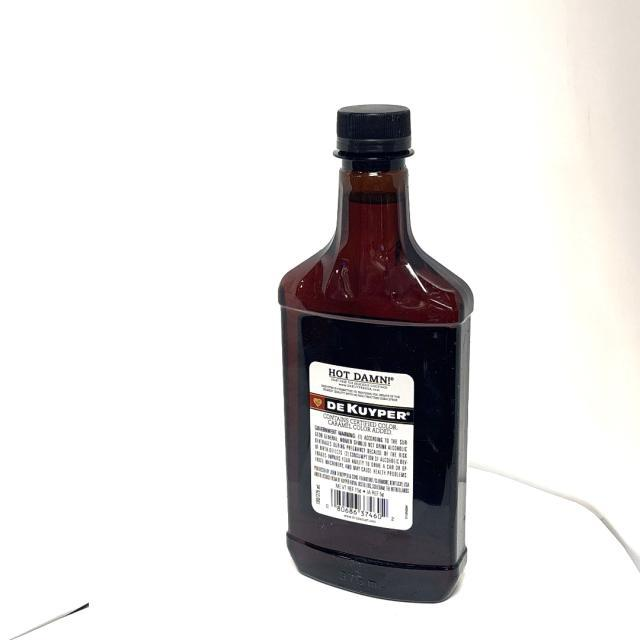DEKUYPER HOT DAMN 100 375ML: (277, 103, 476, 607)
